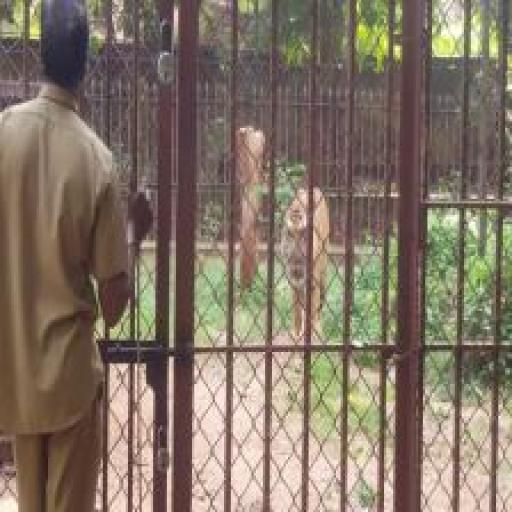Tiger: (220, 100, 345, 380)
